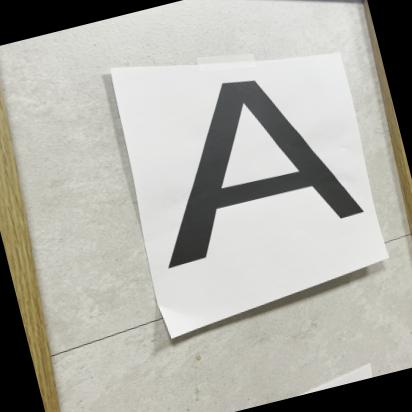seat: (110, 46, 380, 290)
